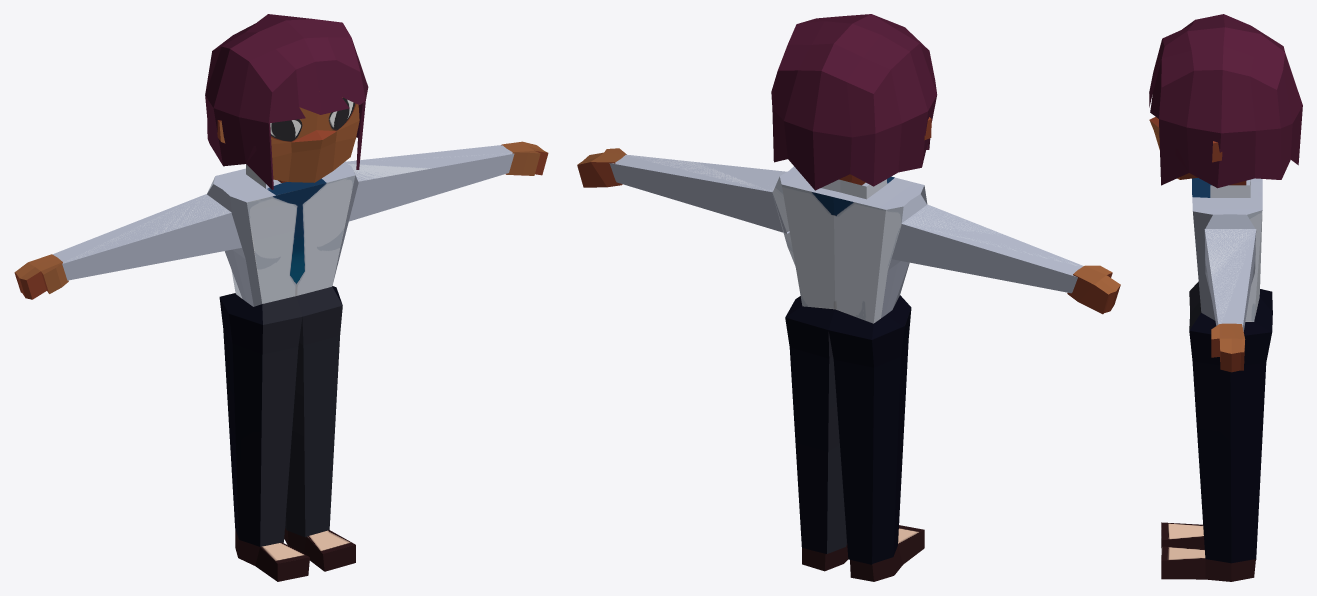
File: Npc cewe22.fbx
The picture shows the model from 3 angles, left to right: view 1: azimuth 30°, elevation 25°; view 2: azimuth 150°, elevation 25°; view 3: azimuth 270°, elevation 25°; orthographic projection.
Visible parts, largest first — view 1: Baju cewe.001, rambut2, Muka cewe 2; view 2: Baju cewe.001, rambut2, Muka cewe 2; view 3: Baju cewe.001, rambut2, Muka cewe 2.
Part boxes in pixels (bbox=[...]): Baju cewe.001: bbox=[52, 145, 514, 581]; rambut2: bbox=[205, 14, 368, 189]; Muka cewe 2: bbox=[14, 97, 548, 299]; Baju cewe.001: bbox=[609, 154, 1083, 581]; rambut2: bbox=[771, 14, 937, 190]; Muka cewe 2: bbox=[577, 117, 1120, 314]; Baju cewe.001: bbox=[1161, 178, 1272, 581]; rambut2: bbox=[1149, 14, 1302, 188]; Muka cewe 2: bbox=[1149, 117, 1246, 372].
Size of the model in its own units: 345 by 333 by 86.94.
3 materials, 3 textured.
